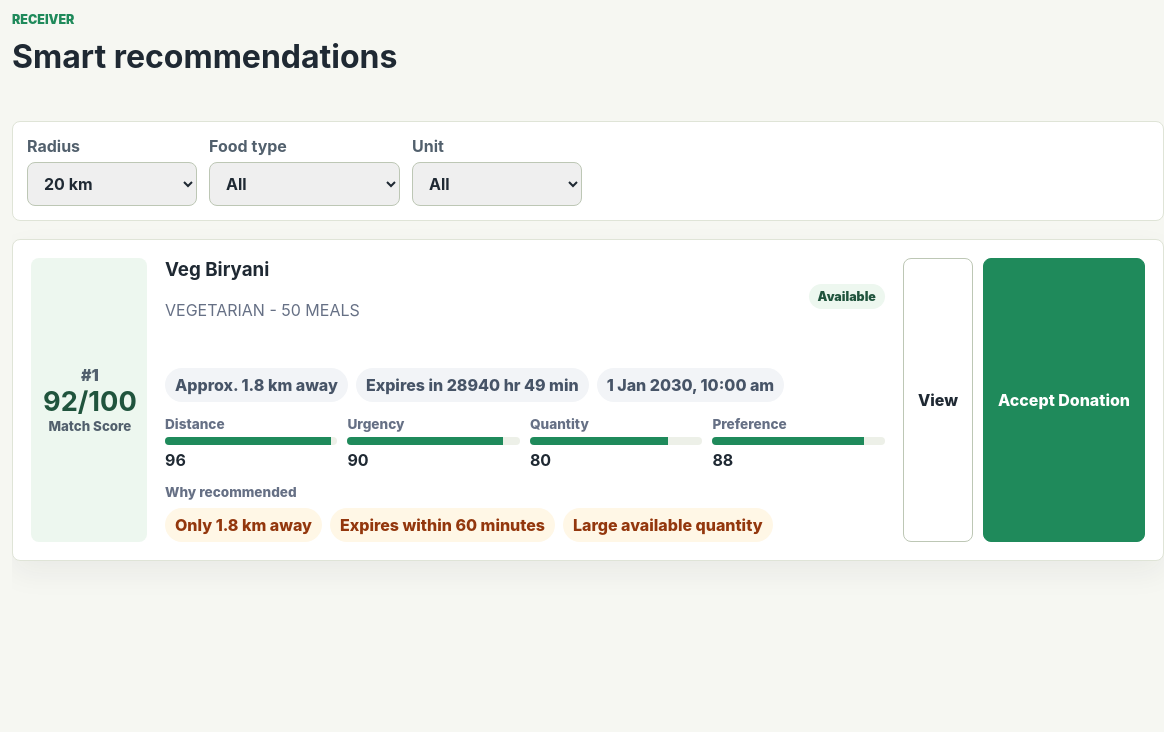
Test case: SmartRecommendations › accepts a recommendation and refreshes the list
Expected: the heading "Veg Biryani" is shown, [165, 258, 269, 281]
Click the button "Accept Donation" at (1064, 400), box [983, 258, 1145, 542]
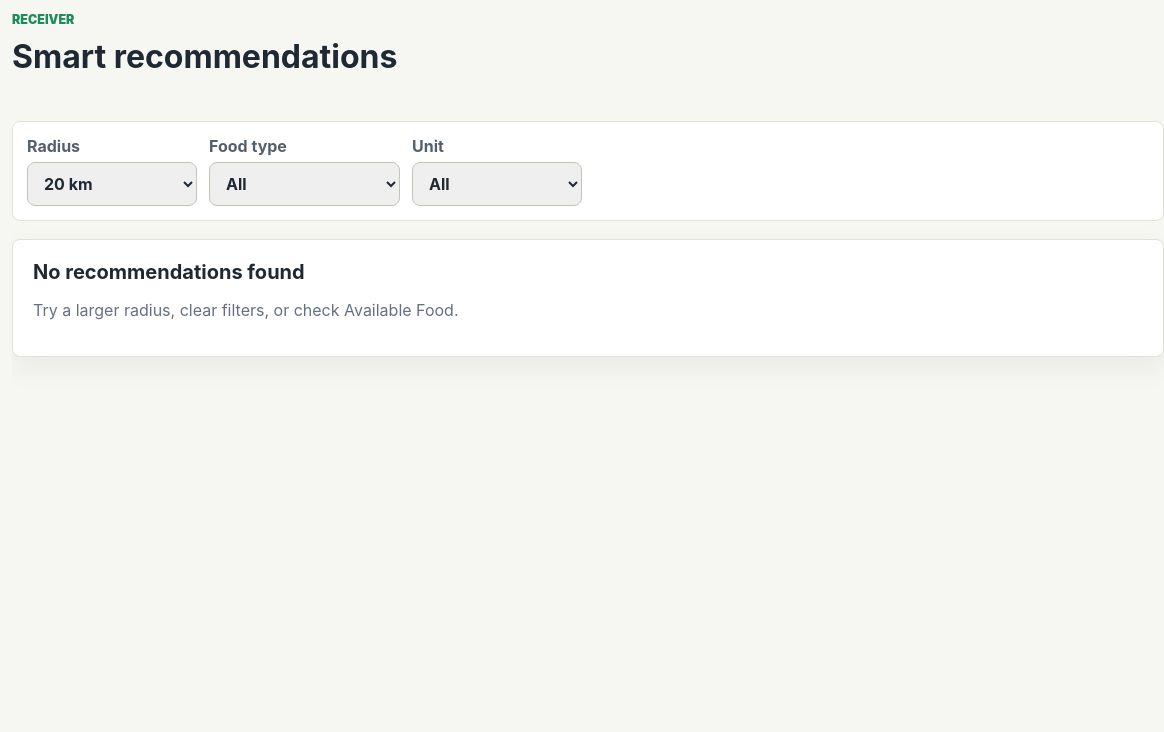
Expected: the heading "No recommendations found" is shown, [33, 260, 305, 284]
